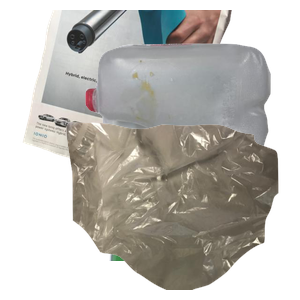glass: (107, 120, 278, 300)
paper: (20, 10, 244, 190)
plastic: (83, 41, 300, 194)
trash: (64, 120, 300, 300)
